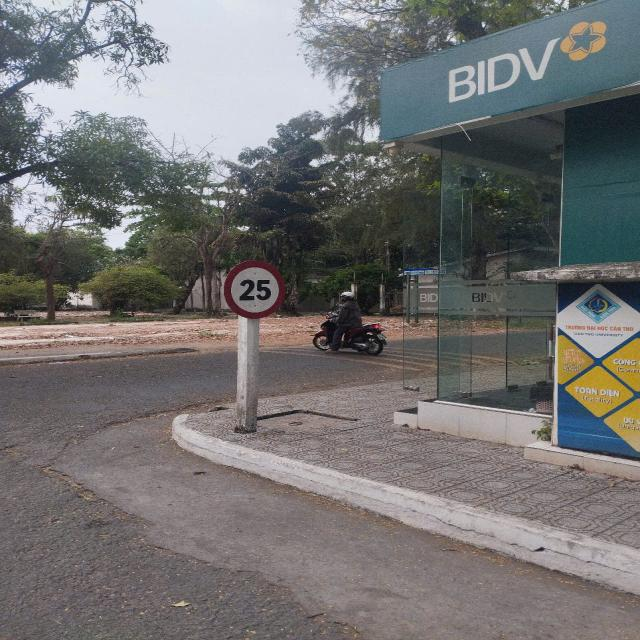Tre_Em: (223, 260, 288, 320)
